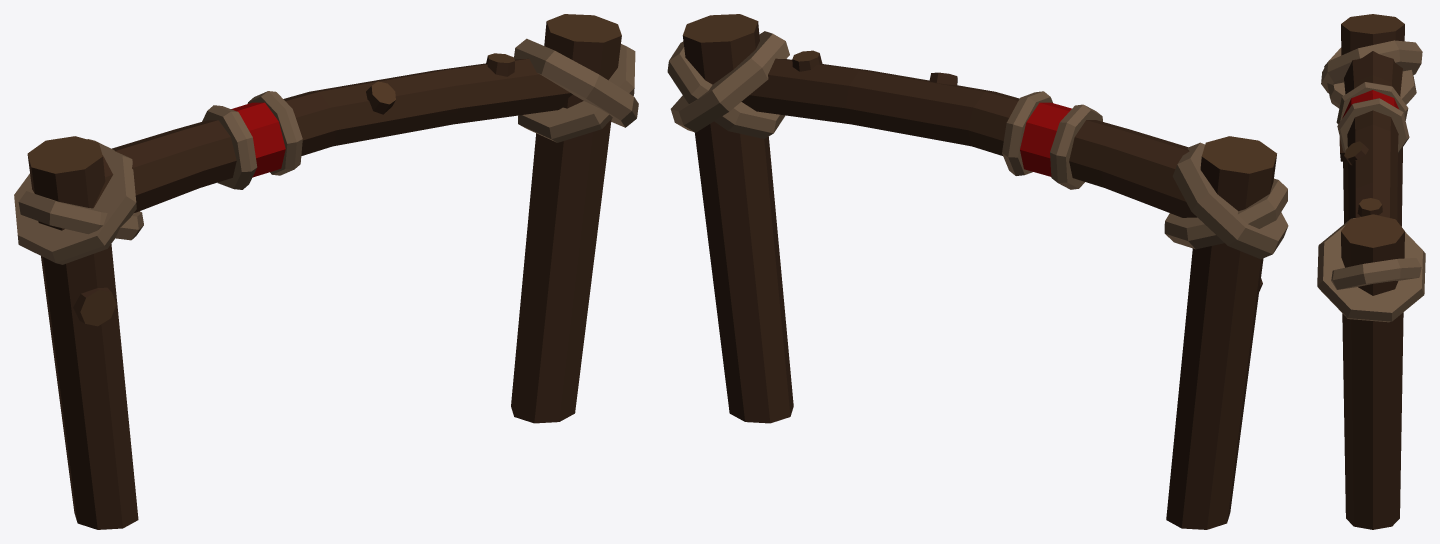
Rendered from Tribal_Plains_Post_Column_Arch_Wood_Timber_03.fbx.
3 renders of one model, left to right at view 1: azimuth 30°, elevation 25°; view 2: azimuth 150°, elevation 25°; view 3: azimuth 270°, elevation 25°, orthographic. The views are drawn at different scales.
Visible parts, largest first — view 1: Tribal_Plains_Post_Column_Arch_Wood_Timber_03; view 2: Tribal_Plains_Post_Column_Arch_Wood_Timber_03; view 3: Tribal_Plains_Post_Column_Arch_Wood_Timber_03.
Boxes of the visible parts, bbox=[...] form: Tribal_Plains_Post_Column_Arch_Wood_Timber_03: bbox=[14, 14, 638, 529]; Tribal_Plains_Post_Column_Arch_Wood_Timber_03: bbox=[667, 14, 1288, 529]; Tribal_Plains_Post_Column_Arch_Wood_Timber_03: bbox=[1317, 14, 1425, 529].
Size of the model in its own units: 7.18 by 4.3 by 1.36.
